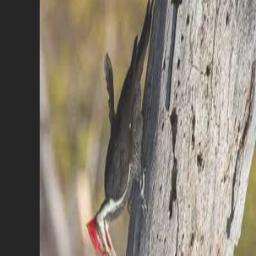Woodpecker: (86, 0, 156, 256)
